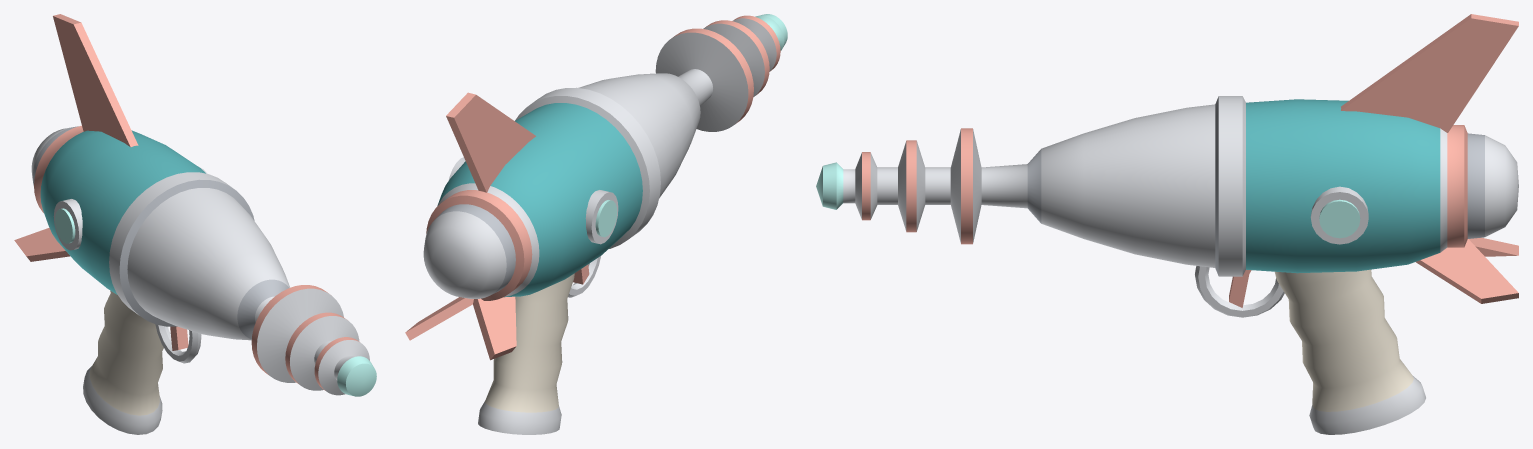
Rendered from ic_raygun.glb.
3 views of the same model, side by side, from view 1: azimuth 30°, elevation 25°; view 2: azimuth 150°, elevation 25°; view 3: azimuth 270°, elevation 25° (orthographic). The views are drawn at different scales.
Parts seen in each view (by area): view 1: ic_raygun; view 2: ic_raygun; view 3: ic_raygun.
Part boxes in pixels (x1,y1,x2,y2): ic_raygun: (14, 14, 376, 434); ic_raygun: (405, 14, 787, 434); ic_raygun: (816, 14, 1518, 434).
Size of the model in its own units: 0.11 by 0.2659 by 0.412.
